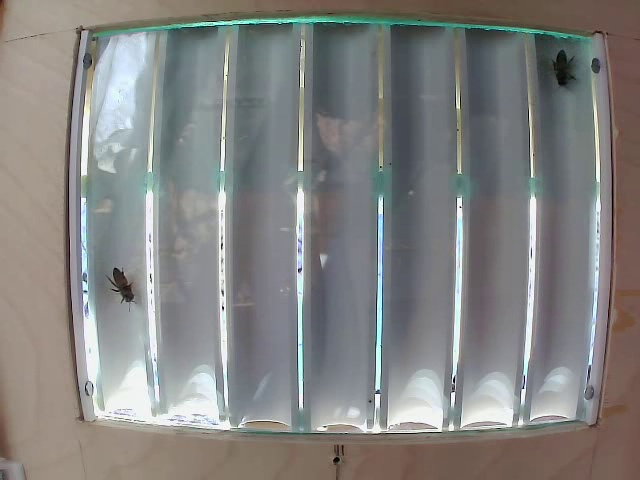bee: (109, 265, 143, 305), (544, 47, 572, 87)
